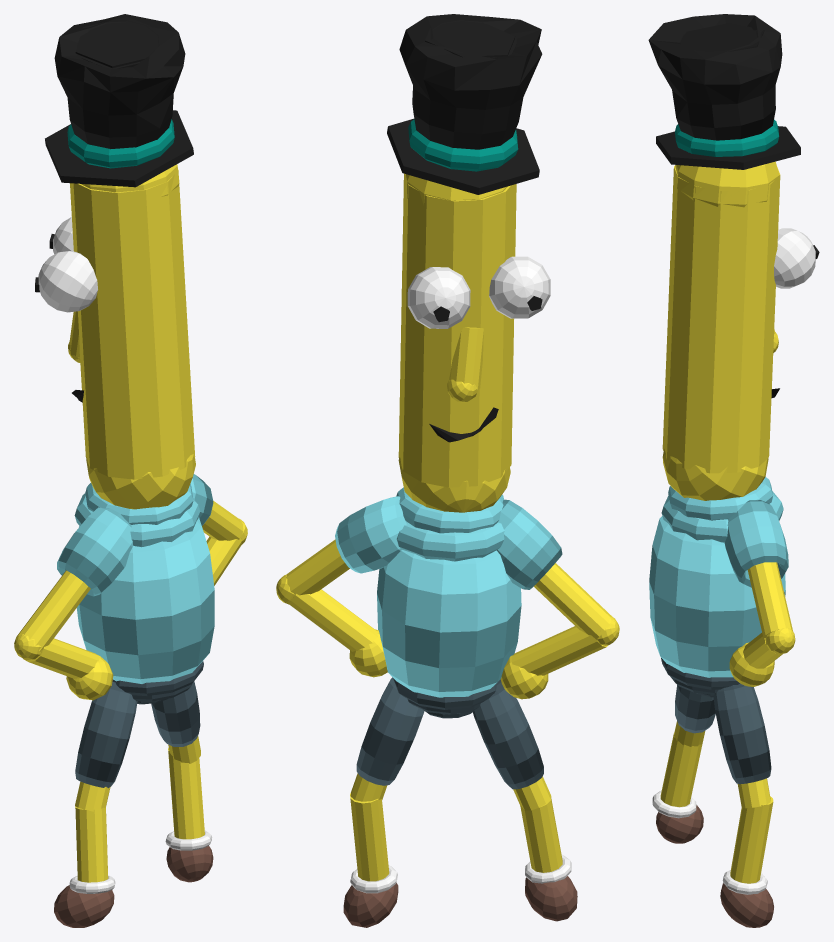
Rendered from stickman.fbx.
3 views of the same model, side by side, from view 1: azimuth 30°, elevation 25°; view 2: azimuth 150°, elevation 25°; view 3: azimuth 270°, elevation 25° (orthographic). The views are drawn at different scales.
Visible parts, largest first — view 1: mesh_1608770708, mesh_816207539, mesh_1288103892, mesh_1973763530, mesh_1218168578, group_1322114860, mesh_1942139557, group_914447578, mesh_1158102954, mesh_263928393, mesh_247154379, mesh_1986848065 (+19 smaller); view 2: mesh_1608770708, mesh_816207539, mesh_1288103892, mesh_1973763530, group_1322114860, mesh_875598661, mesh_450078619, mesh_1218168578, mesh_103741404, mesh_1158102954, mesh_1412155647, mesh_1942139557 (+18 smaller); view 3: mesh_1608770708, mesh_816207539, mesh_1288103892, mesh_875598661, mesh_450078619, mesh_1011500733, mesh_1942139557, group_1322114860, mesh_263928393, mesh_288454485, mesh_103741404, mesh_1986848065 (+15 smaller).
Boxes of the visible parts, <box> form: mesh_1608770708: <box>70,169,195,479</box>; mesh_816207539: <box>76,517,214,683</box>; mesh_1288103892: <box>54,14,185,149</box>; mesh_1973763530: <box>75,681,137,788</box>; mesh_1218168578: <box>57,507,132,596</box>; group_1322114860: <box>45,110,193,187</box>; mesh_1942139557: <box>86,454,195,509</box>; group_914447578: <box>75,17,163,68</box>; mesh_1158102954: <box>38,251,97,312</box>; mesh_263928393: <box>168,748,204,839</box>; mesh_247154379: <box>17,570,90,651</box>; mesh_1986848065: <box>75,806,108,882</box>; mesh_1608770708: <box>398,173,516,487</box>; mesh_816207539: <box>377,550,521,697</box>; mesh_1288103892: <box>399,14,542,149</box>; mesh_1973763530: <box>473,682,543,789</box>; group_1322114860: <box>387,118,539,194</box>; mesh_875598661: <box>356,678,424,785</box>; mesh_450078619: <box>335,496,406,573</box>; mesh_1218168578: <box>497,499,562,589</box>; mesh_103741404: <box>407,267,470,328</box>; mesh_1158102954: <box>489,256,550,318</box>; mesh_1412155647: <box>396,521,504,561</box>; mesh_1942139557: <box>398,457,510,512</box>; mesh_1608770708: <box>662,165,780,473</box>; mesh_816207539: <box>649,516,785,677</box>; mesh_1288103892: <box>648,14,782,140</box>; mesh_875598661: <box>713,683,771,784</box>; mesh_450078619: <box>724,500,788,587</box>; mesh_1011500733: <box>675,161,779,207</box>; mesh_1942139557: <box>662,449,768,500</box>; group_1322114860: <box>656,126,800,169</box>; mesh_263928393: <box>730,796,773,883</box>; mesh_288454485: <box>747,562,792,638</box>; mesh_103741404: <box>774,228,815,288</box>; mesh_1986848065: <box>660,733,702,807</box>.
Bounding box in the file's own units: 20.5 × 61.37 × 11.17.
